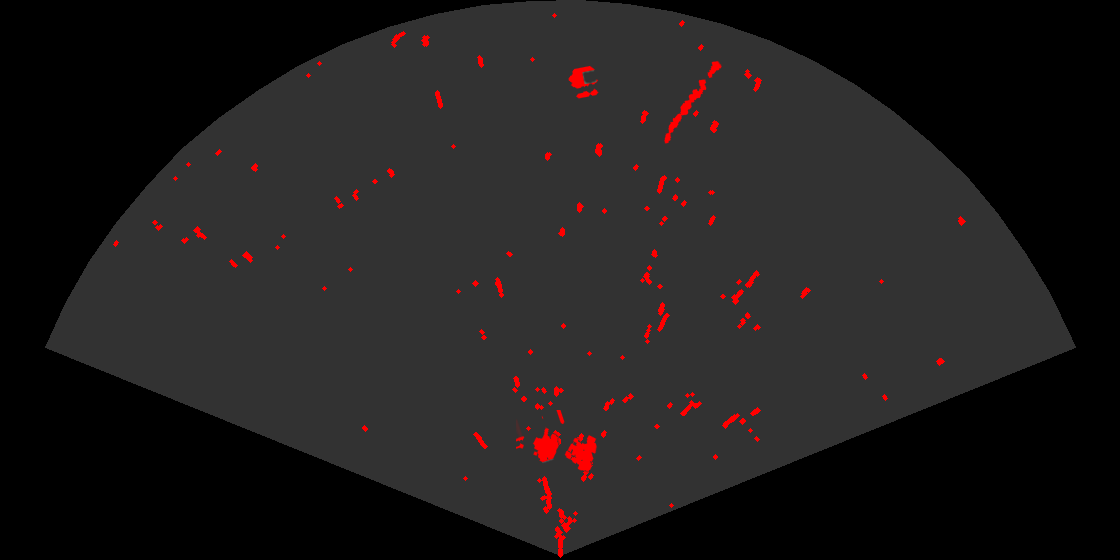ball: (567, 64, 600, 100)
cage: (516, 410, 599, 473)
chain: (663, 59, 723, 145)
